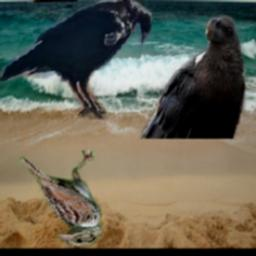Crow: (0, 0, 153, 120), (138, 14, 247, 140)
Sparrow: (16, 150, 103, 246)
